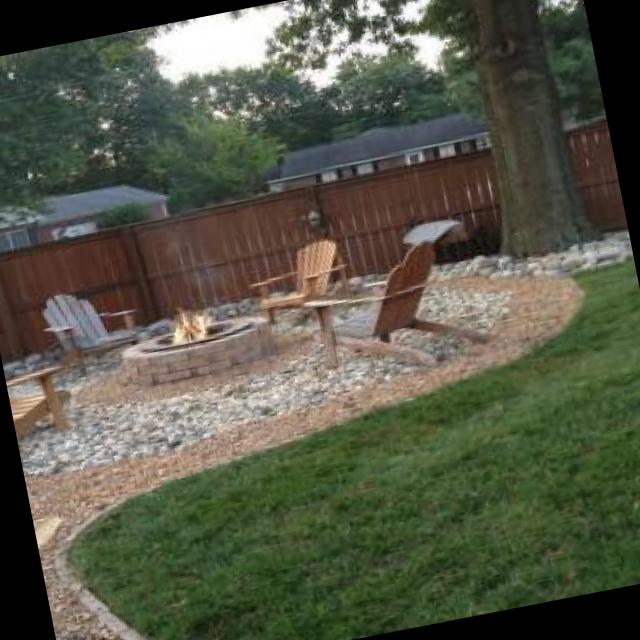fire: (166, 304, 214, 351)
smoke: (160, 211, 244, 306)
